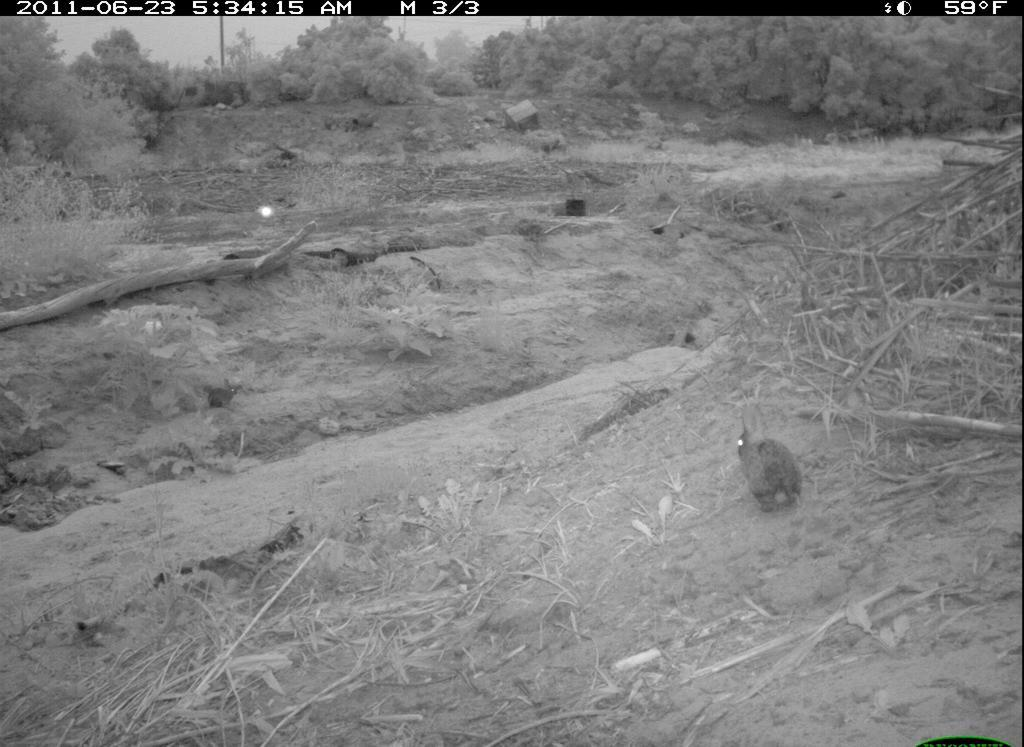rabbit: (730, 413, 822, 530)
